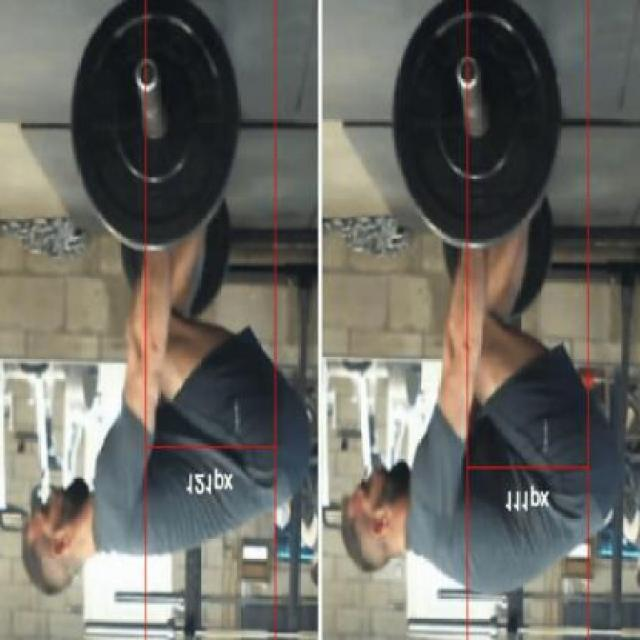Barbell: (456, 53, 482, 92), (136, 55, 158, 97)
